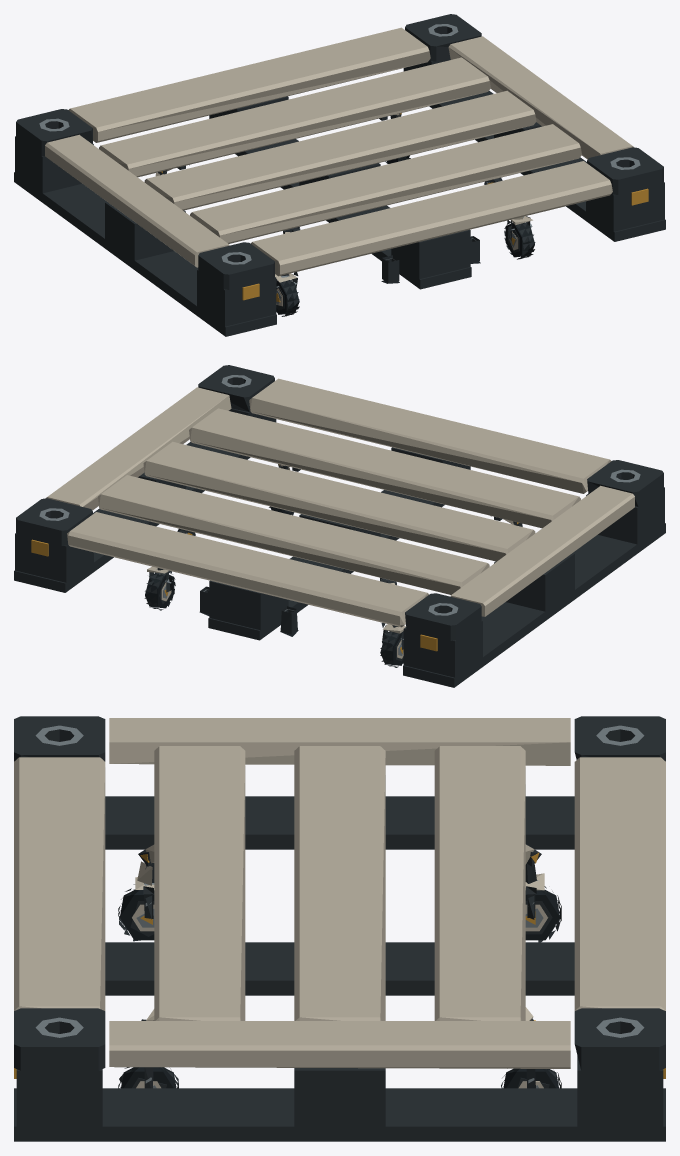
Rendered from stride02_deployed_d0_lod2.glb.
3 renders of one model, top to bottom at view 1: azimuth 30°, elevation 25°; view 2: azimuth 150°, elevation 25°; view 3: azimuth 270°, elevation 25°, orthographic. The views are drawn at different scales.
Parts seen in each view (by area): view 1: STRIDE02_STATIC_SURFACE; view 2: STRIDE02_STATIC_SURFACE; view 3: STRIDE02_STATIC_SURFACE.
Part boxes in pixels (left/top/right/bottom): STRIDE02_STATIC_SURFACE: left=14, top=14, right=665, bottom=336; STRIDE02_STATIC_SURFACE: left=14, top=365, right=665, bottom=687; STRIDE02_STATIC_SURFACE: left=14, top=716, right=665, bottom=1141.
Size of the model in its own units: 1.2 by 0.2486 by 1.
